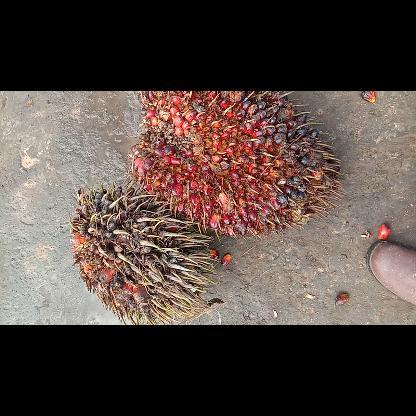TBS abnormal: (70, 184, 214, 324)
TBS masak: (130, 90, 340, 238)
